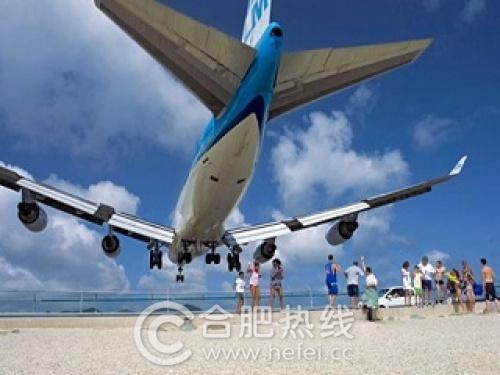airplane: (1, 1, 469, 280)
